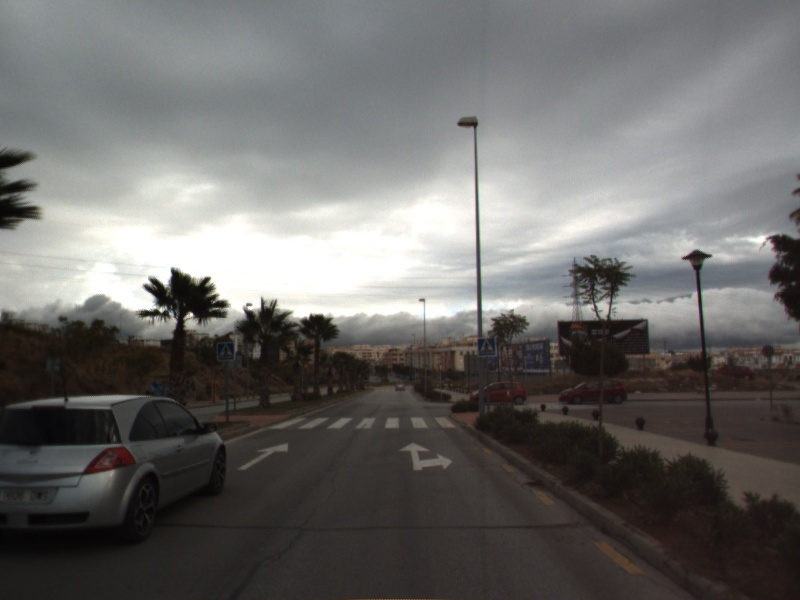STRAIGHT: (236, 441, 290, 472)
STRAIGHT_RIGHT: (397, 440, 454, 472)
